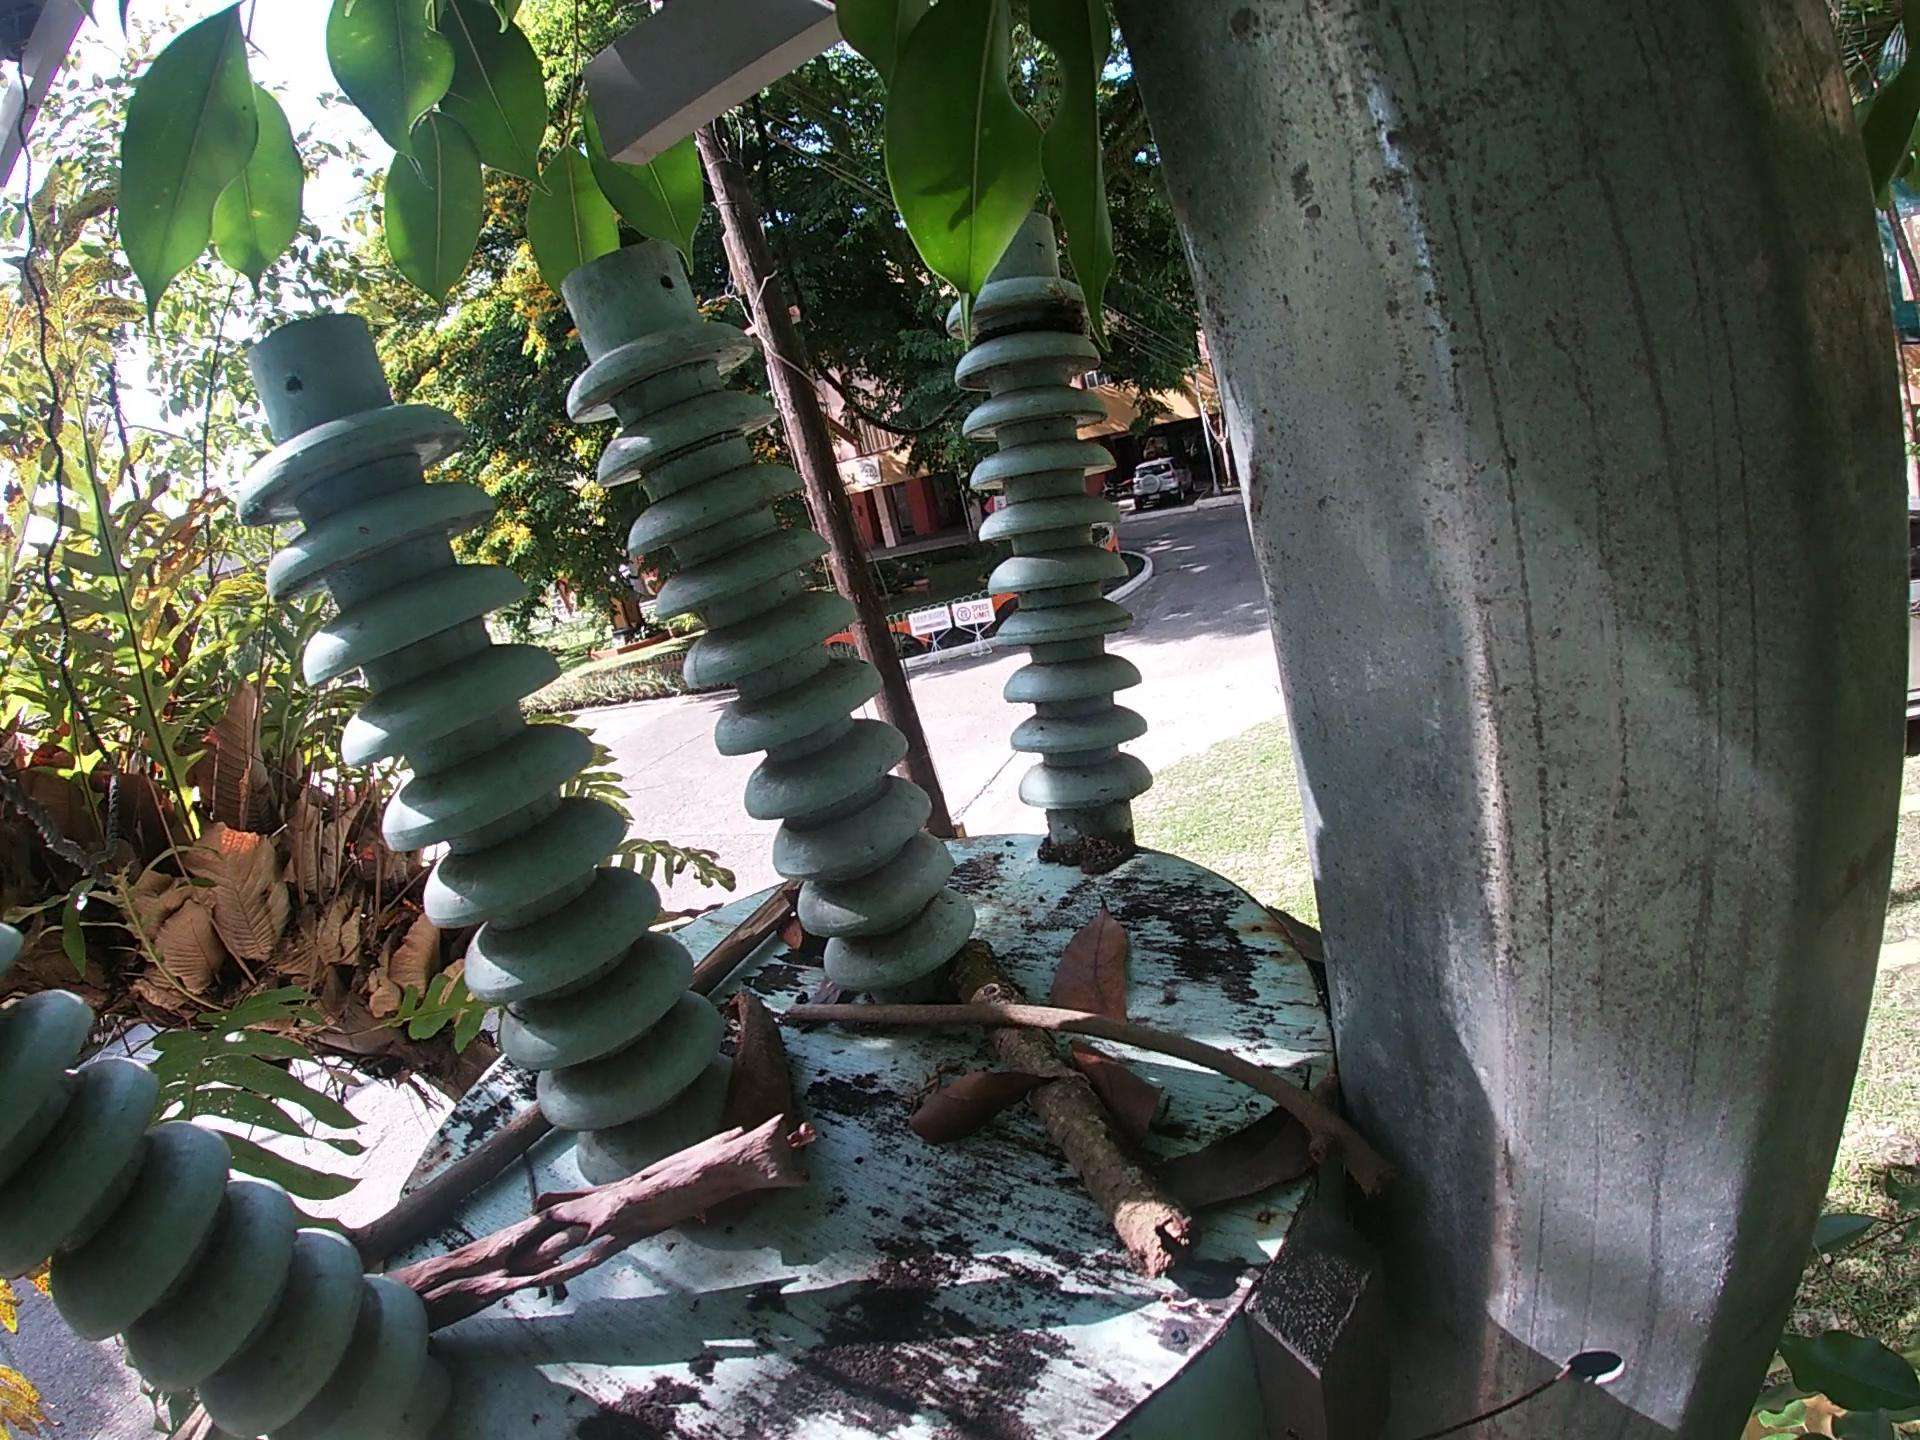leaf: (1147, 1063, 1321, 1222), (909, 1066, 1055, 1153), (1070, 1032, 1169, 1153), (1048, 898, 1138, 1019)
mahogany fruit: (691, 985, 807, 1233)
tree branch: (777, 998, 1395, 1195), (386, 1110, 825, 1333), (943, 933, 1194, 1281), (345, 1101, 561, 1271), (689, 877, 810, 1004)
